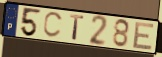2: (88, 14, 109, 47)
5: (19, 7, 43, 38)
8: (111, 18, 131, 49)
C: (42, 11, 65, 40)
E: (131, 21, 156, 51)
T: (69, 14, 85, 42)
